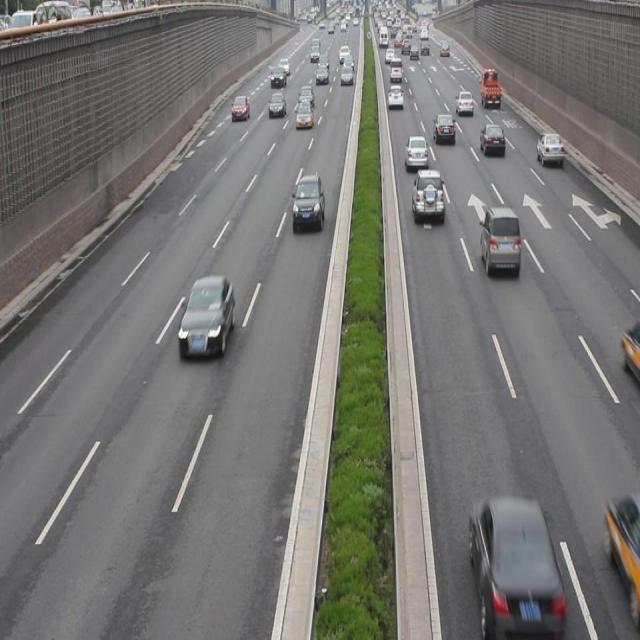car: (471, 498, 565, 614), (177, 277, 232, 357), (604, 494, 640, 592), (410, 166, 444, 223), (291, 175, 324, 233), (535, 130, 562, 166), (404, 134, 427, 172), (479, 124, 504, 156), (433, 112, 453, 146)
truck: (480, 209, 519, 275)
